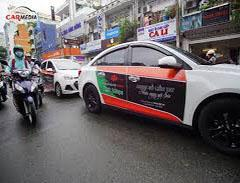car: (69, 36, 240, 155), (33, 53, 80, 102)
motorcycle: (0, 58, 43, 130)
